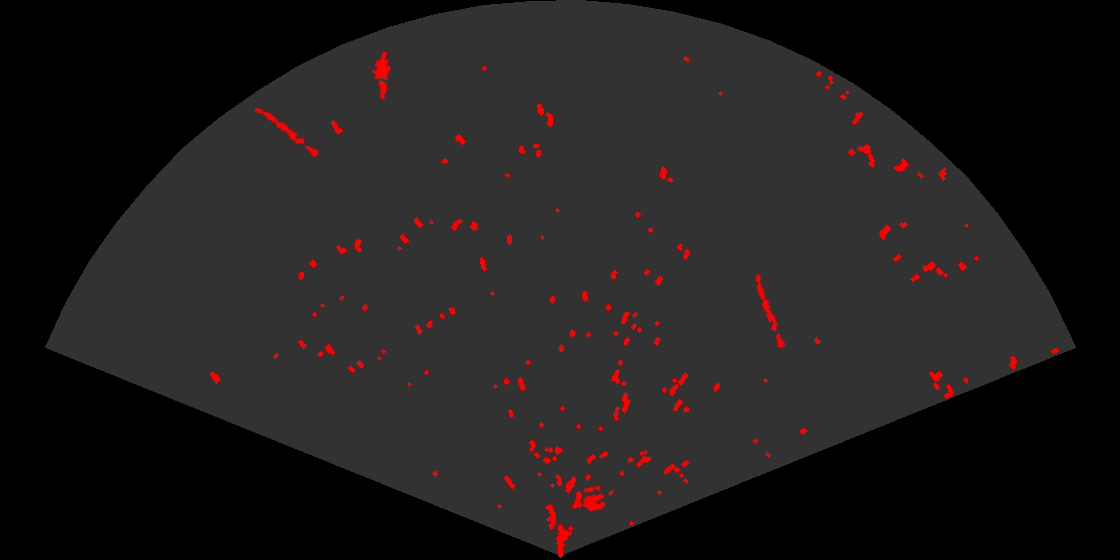ball: (581, 484, 608, 513)
chain: (253, 106, 329, 162), (754, 271, 787, 355)
frogman: (370, 52, 393, 101)
